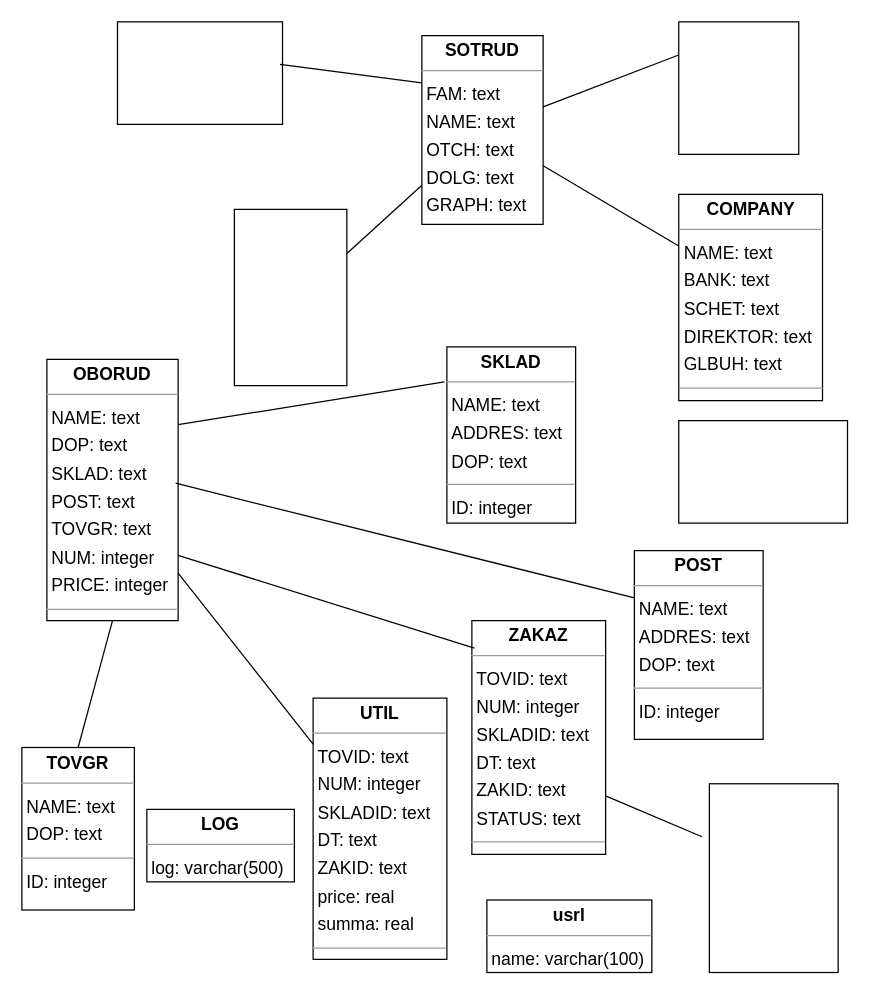
The diagram is 870 pixels wide and 995 high, and some of its shapes have lost their labels. The shapes that lost their labels are listed below. From the top down, each one's box as (x1, y1, x2, y2) in pixels, then its label:
(116, 21, 282, 124): USR name: varchar(100) pass: varchar(100)
(678, 21, 799, 154): DOLG NAME: text OKLAD: text PREM: text
(233, 208, 347, 386): GRAPH NAME: text BEG: text END: text OBED: text
(678, 419, 848, 523): STATUS id: integer NAME: varchar(100)
(708, 782, 838, 972): ZAK NAME: text ADDRES: text DOP: text ID: integer
